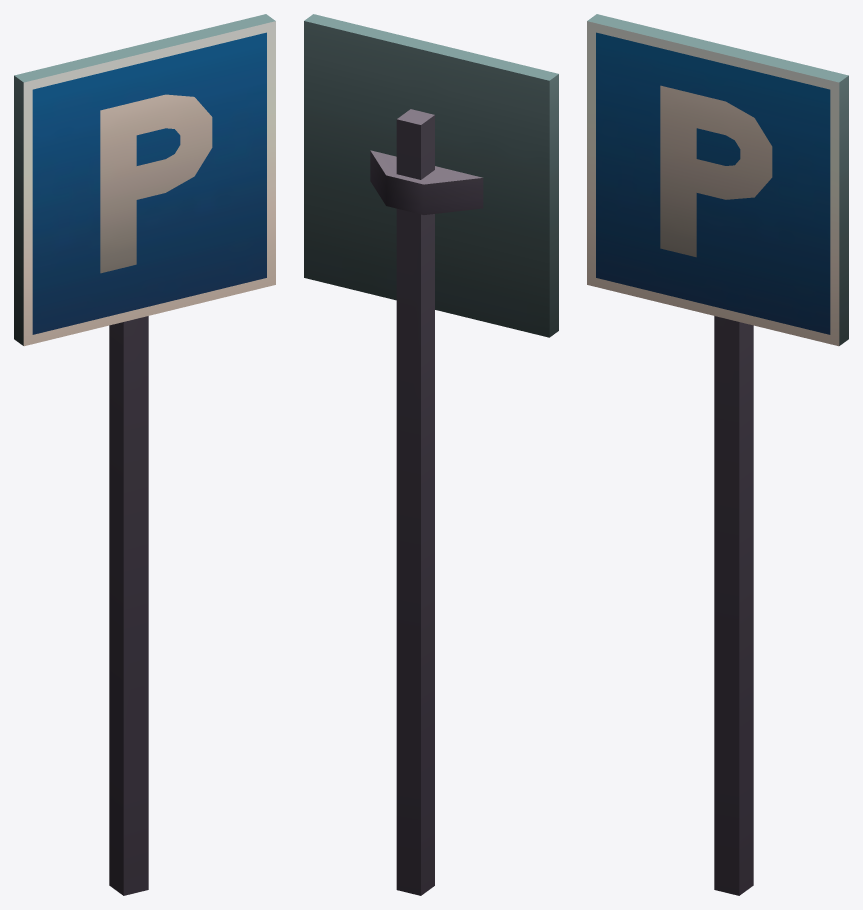
Rendered from Streetsign_2G.fbx.
The picture shows the model from 3 angles, left to right: view 1: azimuth 30°, elevation 25°; view 2: azimuth 150°, elevation 25°; view 3: azimuth 330°, elevation 25°; orthographic projection. The views are drawn at different scales.
Visible parts, largest first — view 1: Streetsign_2G; view 2: Streetsign_2G; view 3: Streetsign_2G.
Part boxes in pixels (x1,y1,x2,y2): Streetsign_2G: (14,14,275,895); Streetsign_2G: (304,14,558,895); Streetsign_2G: (587,14,848,895).
Size of the model in its own units: 27.43 by 88.52 by 6.35.
